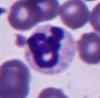N: (24, 25, 76, 75)
